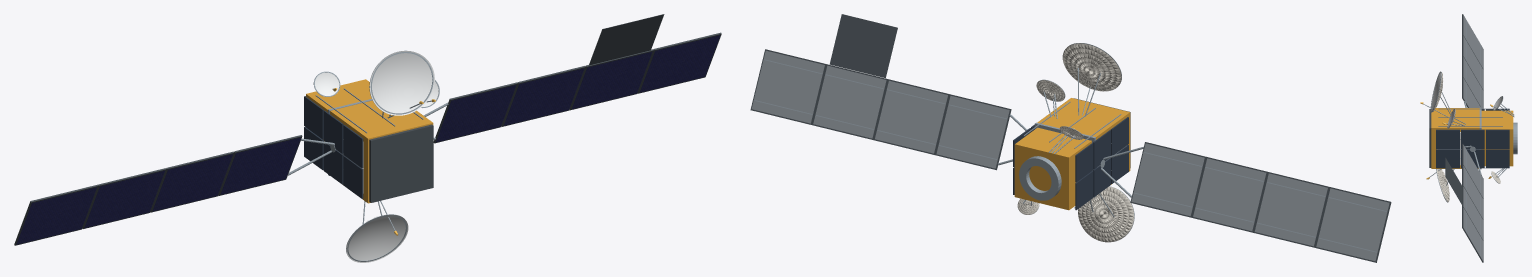
File: ses-10.glb
3 renders of one model, left to right at view 1: azimuth 30°, elevation 25°; view 2: azimuth 150°, elevation 25°; view 3: azimuth 270°, elevation 25°, orthographic. The views are drawn at different scales.
Parts seen in each view (by area): view 1: Solar cell panel (×8), Earth-facing deck, Radiator bay (×6), Reflector 3 face, Solar panel frame (×7), Payload module, Solar wing trim flap, Reflector 1 face, Service module, Reflector 5 face, Reflector 3 edge; view 2: Rear array substrate (×8), Solar panel frame (×8), Service module, Solar wing trim flap, Radiator bay (×6), Reflector 1 insulated back, Payload module, Reflector 3 insulated back, Launch adapter ring, Reflector 4 insulated back; view 3: Rear array substrate (×8), Radiator bay (×6), Payload module, Service module, Solar panel frame (×7), Solar wing trim flap, Reflector 1 insulated back, Reflector 3 face, Earth-facing deck, Launch adapter ring, Blanket closeout seam, Reflector 3 insulated back (+2 smaller).
Boxes of the visible parts, left/top/right/bottom form: Solar cell panel (×8): left=16, top=35, right=720, bottom=244; Earth-facing deck: left=369, top=124, right=433, bottom=202; Radiator bay (×6): left=304, top=96, right=363, bottom=198; Reflector 3 face: left=370, top=51, right=434, bottom=115; Solar panel frame (×7): left=14, top=32, right=721, bottom=245; Payload module: left=330, top=100, right=433, bottom=203; Solar wing trim flap: left=589, top=14, right=664, bottom=65; Reflector 1 face: left=346, top=215, right=408, bottom=262; Service module: left=306, top=79, right=371, bottom=141; Reflector 5 face: left=315, top=72, right=339, bottom=95; Reflector 3 edge: left=369, top=50, right=433, bottom=114; Rear array substrate (×8): left=751, top=50, right=1389, bottom=261; Solar panel frame (×8): left=750, top=49, right=1391, bottom=262; Service module: left=1014, top=127, right=1091, bottom=210; Solar wing trim flap: left=829, top=14, right=897, bottom=78; Radiator bay (×6): left=1075, top=117, right=1128, bottom=210; Reflector 1 insulated back: left=1078, top=186, right=1134, bottom=242; Payload module: left=1037, top=98, right=1130, bottom=184; Reflector 3 insulated back: left=1062, top=43, right=1121, bottom=91; Launch adapter ring: left=1019, top=156, right=1061, bottom=200; Reflector 4 insulated back: left=1036, top=80, right=1064, bottom=101; Rear array substrate (×8): left=1463, top=15, right=1483, bottom=260; Radiator bay (×6): left=1436, top=129, right=1509, bottom=168; Payload module: left=1431, top=108, right=1479, bottom=168; Service module: left=1481, top=110, right=1513, bottom=166; Solar panel frame (×7): left=1462, top=14, right=1483, bottom=262; Solar wing trim flap: left=1445, top=157, right=1462, bottom=205; Reflector 1 insulated back: left=1436, top=169, right=1449, bottom=202; Reflector 3 face: left=1430, top=71, right=1441, bottom=112; Earth-facing deck: left=1429, top=109, right=1431, bottom=167; Launch adapter ring: left=1513, top=122, right=1517, bottom=154; Blanket closeout seam: left=1438, top=108, right=1502, bottom=109; Reflector 3 insulated back: left=1433, top=72, right=1442, bottom=111.
Bounding box in the file's own units: 34.97 × 10.12 × 6.76.
10 materials, 1 textured.
